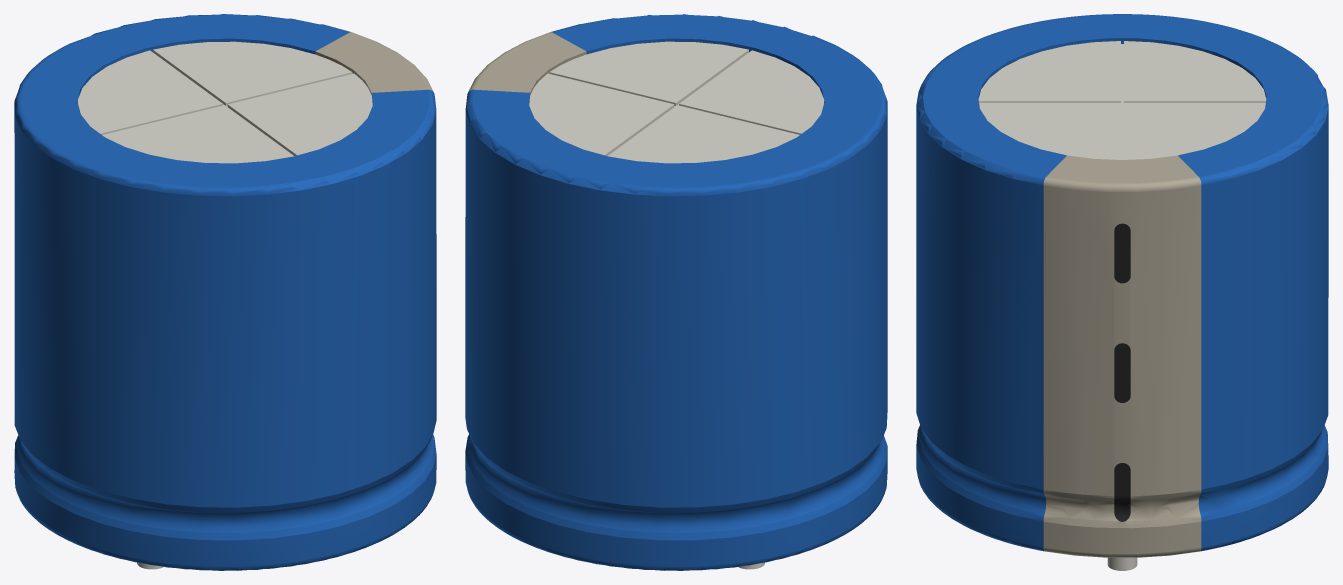
Rendered from kc-cp_radial_d12.5mm_p5.00mm.glb.
3 renders of one model, left to right at view 1: azimuth 30°, elevation 25°; view 2: azimuth 150°, elevation 25°; view 3: azimuth 270°, elevation 25°, orthographic. The views are drawn at different scales.
Visible parts, largest first — view 1: 0_0.16666666666666666_0.5_0, 0.6666666666666666_0.6666666666666666_0.5833333333333334_0.8, 0.4166666666666667_0.4166666666666667_0.3333333333333333_0; view 2: 0_0.16666666666666666_0.5_0, 0.6666666666666666_0.6666666666666666_0.5833333333333334_0.8, 0.4166666666666667_0.4166666666666667_0.3333333333333333_0; view 3: 0_0.16666666666666666_0.5_0, 0.4166666666666667_0.4166666666666667_0.3333333333333333_0, 0.6666666666666666_0.6666666666666666_0.5833333333333334_0.8, 0_0_0_0.
Part boxes in pixels (x1,y1,x2,y2): 0_0.16666666666666666_0.5_0: (14,14,436,570); 0.6666666666666666_0.6666666666666666_0.5833333333333334_0.8: (78,41,372,569); 0.4166666666666667_0.4166666666666667_0.3333333333333333_0: (315,32,433,95); 0_0.16666666666666666_0.5_0: (465,14,887,570); 0.6666666666666666_0.6666666666666666_0.5833333333333334_0.8: (529,41,824,569); 0.4166666666666667_0.4166666666666667_0.3333333333333333_0: (468,32,586,95); 0_0.16666666666666666_0.5_0: (916,14,1328,551); 0.4166666666666667_0.4166666666666667_0.3333333333333333_0: (1043,155,1201,557); 0.6666666666666666_0.6666666666666666_0.5833333333333334_0.8: (978,41,1266,570); 0_0_0_0: (1114,223,1130,521).
Bounding box in the file's own units: 1.25 × 1.45 × 1.25.
